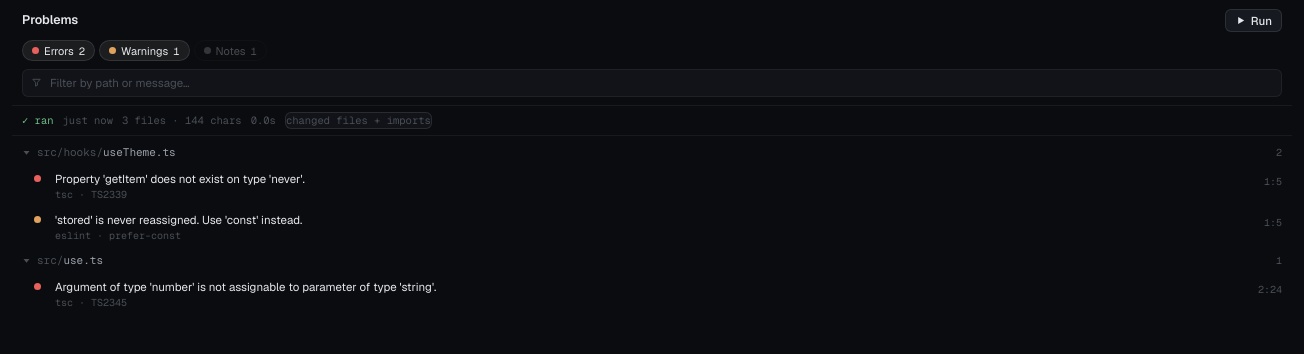
it: ProblemsPanel › a failed open is reported, not swallowed
What coordinates should you click on to do the following:
click the 1st option
I would click on:
 (180, 178)
Its box is [12,166,1292,207].
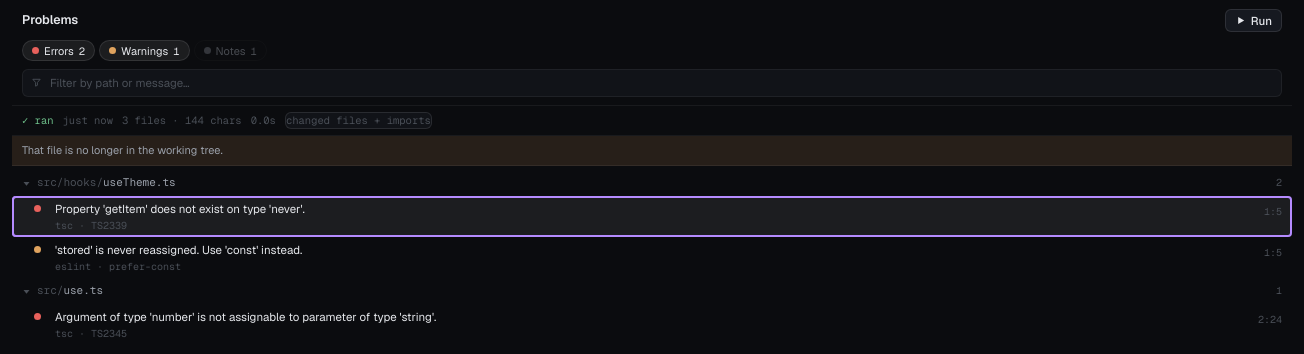
Check: the message "That file is no longer in the working tree." is shown, box [12,136,1292,166]
